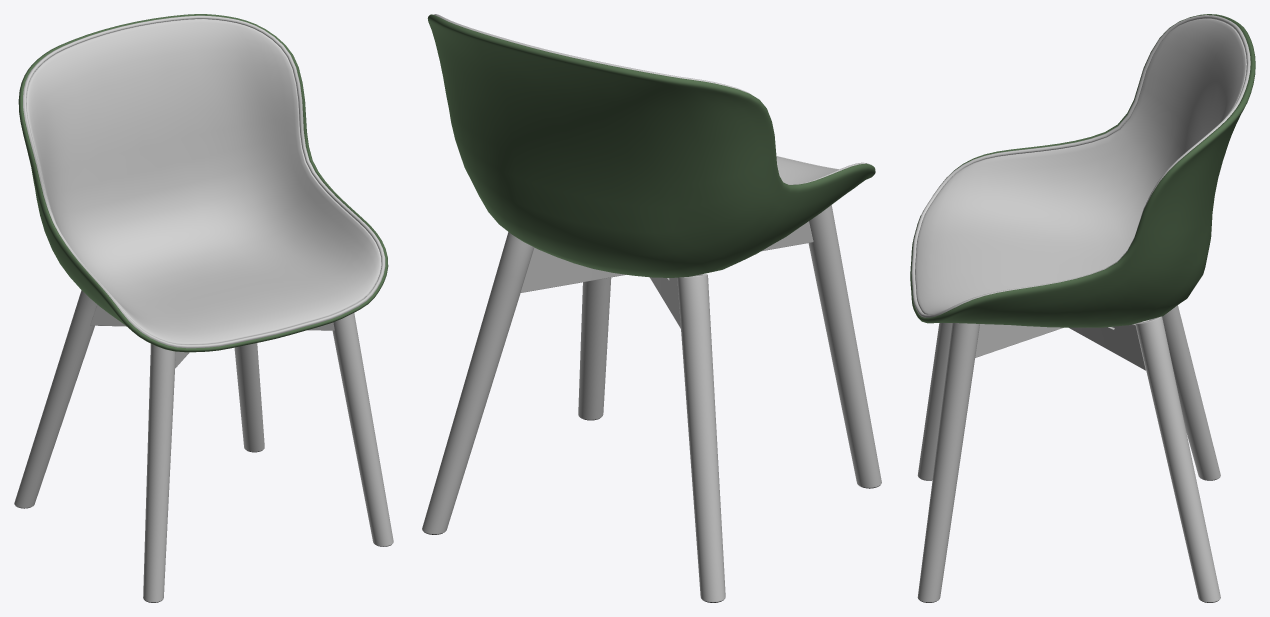
The model's file is DiningChair.obj.
The picture shows the model from 3 angles, left to right: view 1: azimuth 30°, elevation 25°; view 2: azimuth 150°, elevation 25°; view 3: azimuth 270°, elevation 25°; orthographic projection. The views are drawn at different scales.
Parts seen in each view (by area): view 1: SM_Esstischstuhl_2; view 2: SM_Esstischstuhl_2; view 3: SM_Esstischstuhl_2.
Boxes of the visible parts, left/top/right/bottom form: SM_Esstischstuhl_2: left=14, top=14, right=393, bottom=602; SM_Esstischstuhl_2: left=422, top=14, right=881, bottom=602; SM_Esstischstuhl_2: left=910, top=14, right=1255, bottom=602.
Size of the model in its own units: 54.6 by 82.88 by 54.6.
